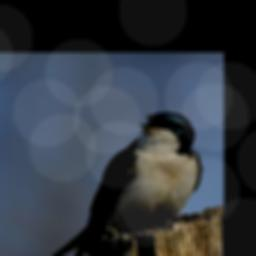Swallow: (48, 110, 201, 256)
